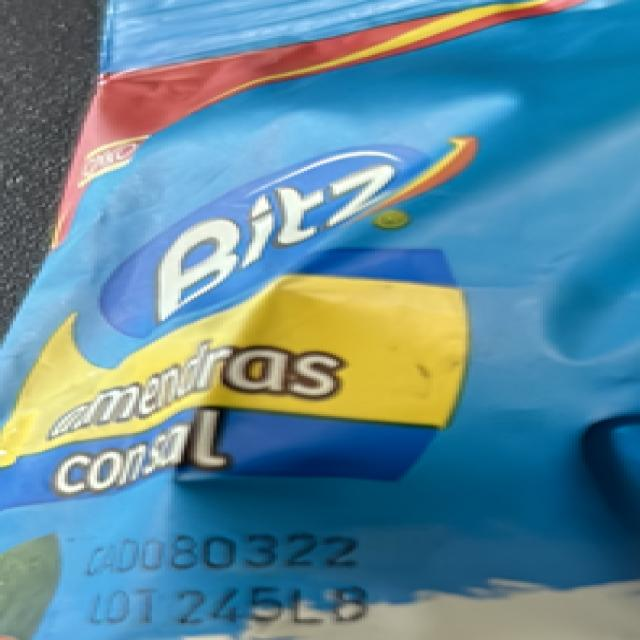bitzAlmendras: (65, 0, 632, 639)
